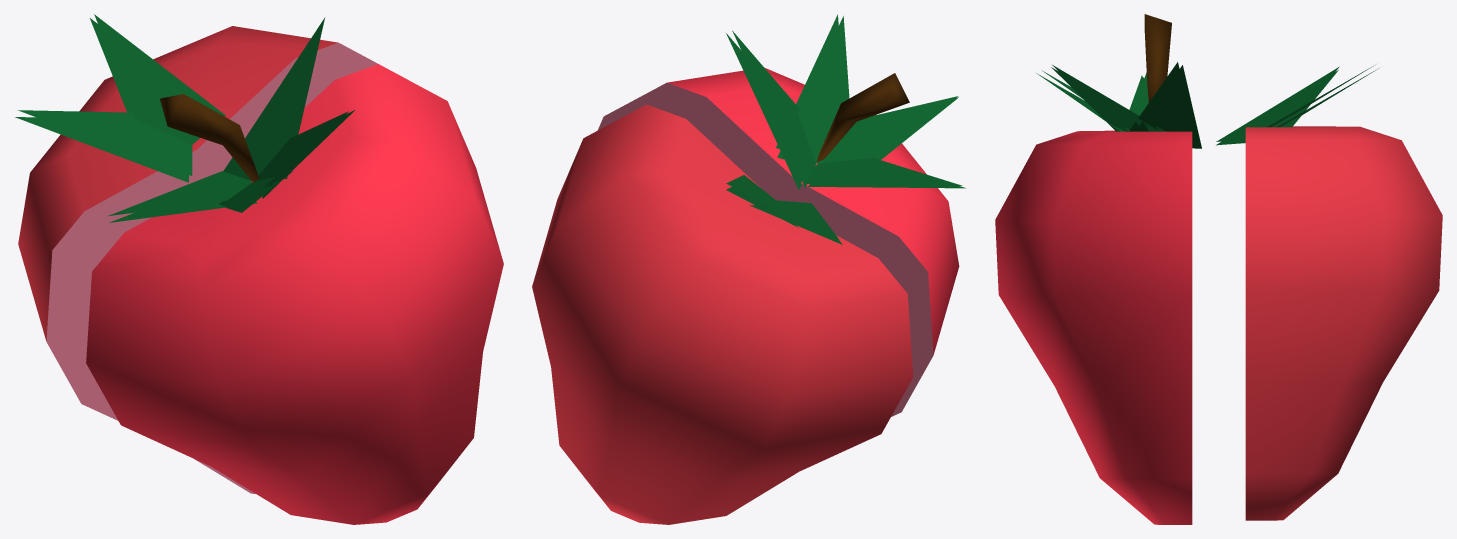
Rendered from lul.strawberry (1).fbx.
3 views of the same model, side by side, from view 1: azimuth 30°, elevation 25°; view 2: azimuth 150°, elevation 25°; view 3: azimuth 270°, elevation 25° (orthographic). The views are drawn at different scales.
Parts seen in each view (by area): view 1: strawberry.001, strawberry.003; view 2: strawberry.003, strawberry.001; view 3: strawberry.001, strawberry.003.
Boxes of the visible parts, x1=… form: strawberry.001: x1=86, y1=17, x2=503, y2=524; strawberry.003: x1=15, y1=14, x2=401, y2=493; strawberry.003: x1=532, y1=104, x2=913, y2=524; strawberry.001: x1=597, y1=14, x2=965, y2=416; strawberry.001: x1=995, y1=14, x2=1201, y2=524; strawberry.003: x1=1216, y1=66, x2=1442, y2=520.
Size of the model in its own units: 129 by 159 by 146.
